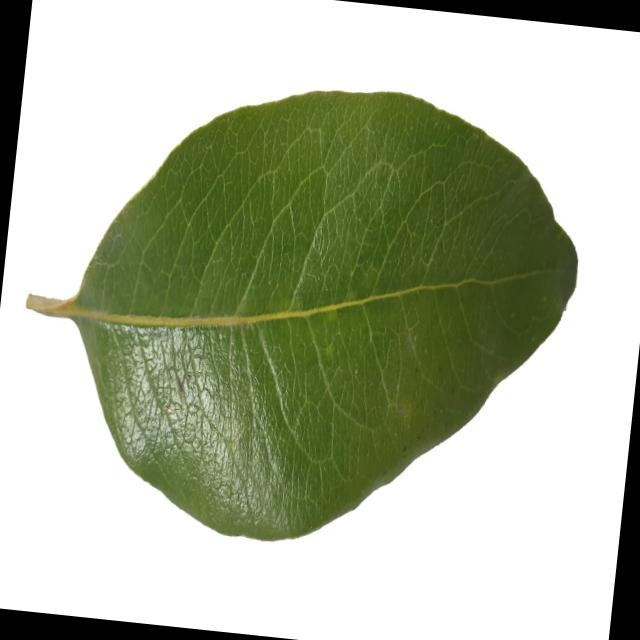Medicinal-Sandalwood: (4, 54, 595, 572)
